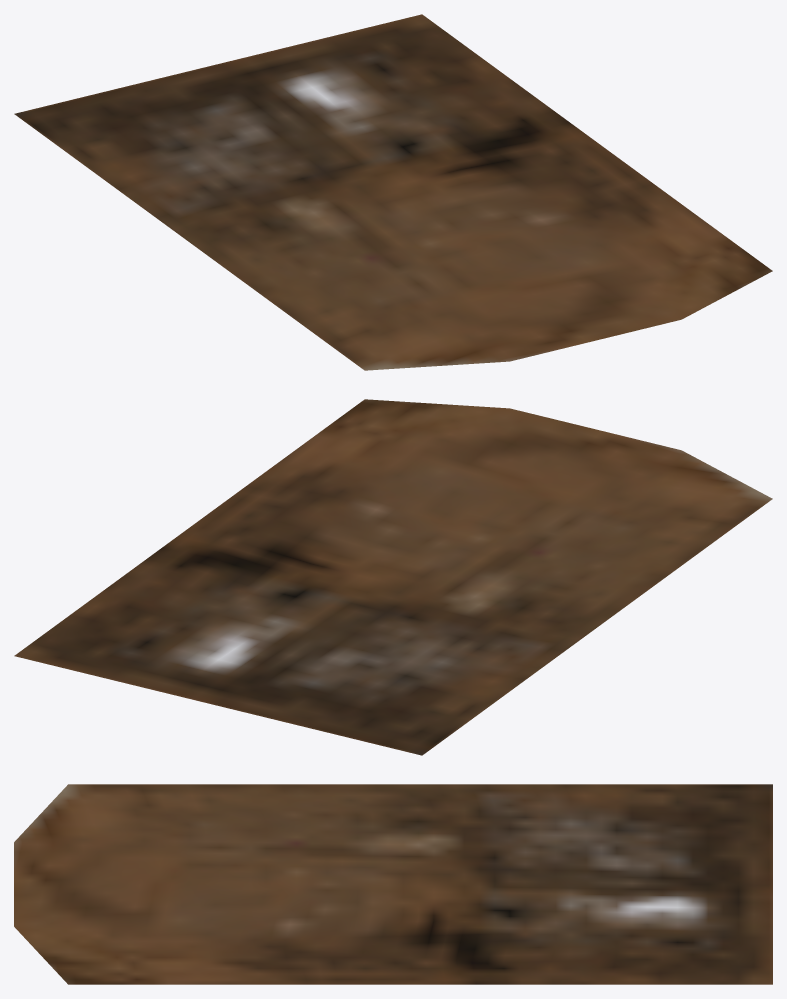
The model's file is Dust_Card.fbx.
3 views of the same model, one above another, from view 1: azimuth 30°, elevation 25°; view 2: azimuth 150°, elevation 25°; view 3: azimuth 270°, elevation 25° (orthographic).
Visible parts, largest first — view 1: Dust_Card; view 2: Dust_Card; view 3: Dust_Card.
Part boxes in pixels (left/top/right/bottom): Dust_Card: left=14, top=14, right=772, bottom=370; Dust_Card: left=14, top=399, right=772, bottom=755; Dust_Card: left=14, top=784, right=772, bottom=984.
Size of the model in its own units: 123 by 0 by 197.
